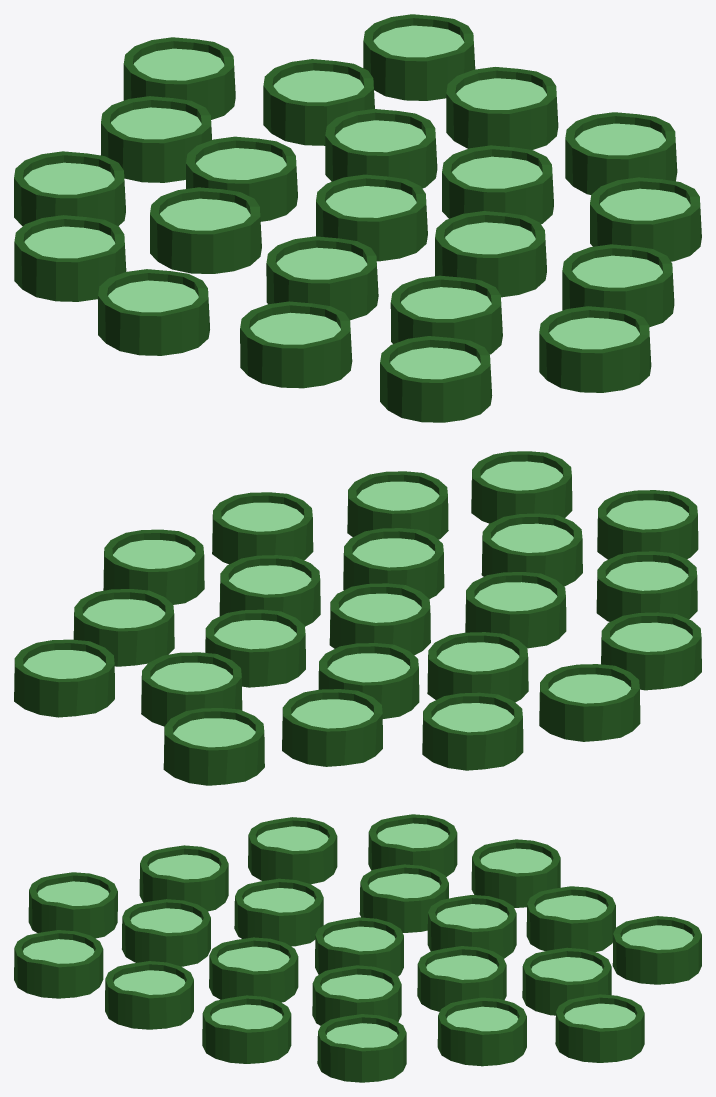
The model's file is kacangpanjangpotongbanyak.glb.
3 views of the same model, one above another, from view 1: azimuth 30°, elevation 25°; view 2: azimuth 150°, elevation 25°; view 3: azimuth 270°, elevation 25° (orthographic). The views are drawn at different scales.
Parts seen in each view (by area): view 1: Cylinder.019, Cylinder.018, Cylinder.017, Cylinder.016, Cylinder.004, Cylinder.011, Cylinder.015, Cylinder.020, Cylinder.006, Cylinder, Cylinder.009, Cylinder.013 (+10 smaller); view 2: Cylinder.015, Cylinder.014, Cylinder.013, Cylinder.021, Cylinder.020, Cylinder.016, Cylinder.005, Cylinder.011, Cylinder.009, Cylinder.019, Cylinder.010, Cylinder.002 (+10 smaller); view 3: Cylinder.019, Cylinder.009, Cylinder.010, Cylinder.020, Cylinder.011, Cylinder.021, Cylinder.008, Cylinder.007, Cylinder.016, Cylinder.013, Cylinder.005, Cylinder.018 (+10 smaller).
Boxes of the visible parts, x1,y1,x2,y2 form: Cylinder.019: (539,306,651,392); Cylinder.018: (380,336,492,422); Cylinder.017: (240,301,352,388); Cylinder.016: (98,269,209,355); Cylinder.004: (150,187,261,273); Cylinder.011: (446,67,558,149); Cylinder.015: (14,215,126,301); Cylinder.020: (363,14,475,100); Cylinder.006: (435,211,546,297); Cylinder: (316,174,427,261); Cylinder.009: (590,177,701,261); Cylinder.013: (101,96,211,182); Cylinder.015: (539,664,640,741); Cylinder.014: (422,692,523,770); Cylinder.013: (282,689,382,766); Cylinder.021: (163,708,264,785); Cylinder.020: (14,639,114,717); Cylinder.016: (601,612,701,690); Cylinder.005: (465,572,566,648); Cylinder.011: (73,589,174,666); Cylinder.009: (212,492,313,564); Cylinder.019: (471,451,572,523); Cylinder.010: (103,529,204,604); Cylinder.002: (205,609,305,687); Cylinder.019: (14,930,103,998); Cylinder.009: (202,995,291,1063); Cylinder.010: (317,1014,406,1082); Cylinder.020: (555,994,644,1062); Cylinder.011: (437,997,526,1066); Cylinder.021: (612,916,701,984); Cylinder.008: (105,961,193,1029); Cylinder.007: (122,899,210,966); Cylinder.016: (248,817,337,884); Cylinder.013: (526,886,615,952); Cylinder.005: (234,878,323,946); Cylinder.018: (28,872,117,938).
Size of the model in its own units: 5.38 by 0.3619 by 6.59.
